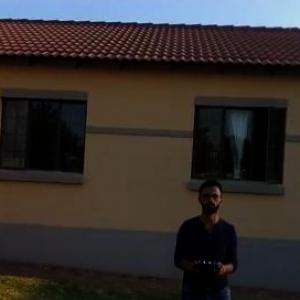follow: (170, 175, 244, 299)
